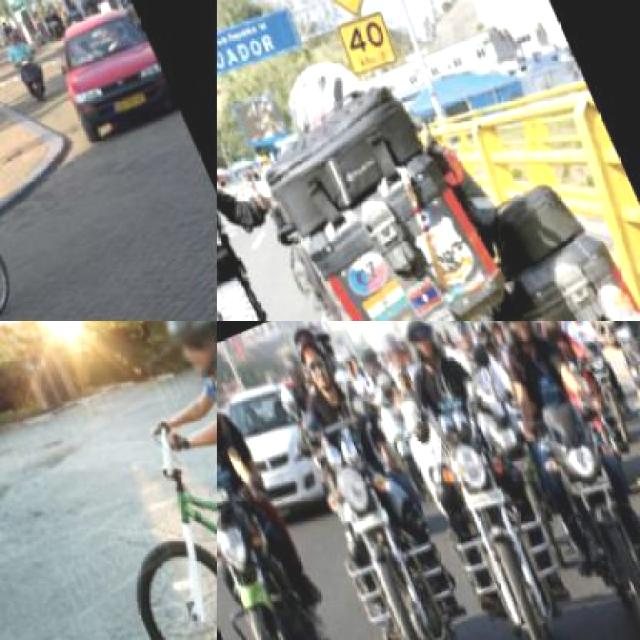With Helmet: (279, 320, 346, 395), (148, 320, 215, 386), (382, 320, 449, 372), (302, 320, 344, 374), (479, 320, 543, 348), (378, 328, 412, 372), (277, 344, 309, 388), (444, 320, 478, 358), (466, 320, 499, 355), (532, 320, 566, 342), (358, 347, 382, 378), (550, 320, 588, 331)
Without Helmet: (217, 356, 223, 422)
